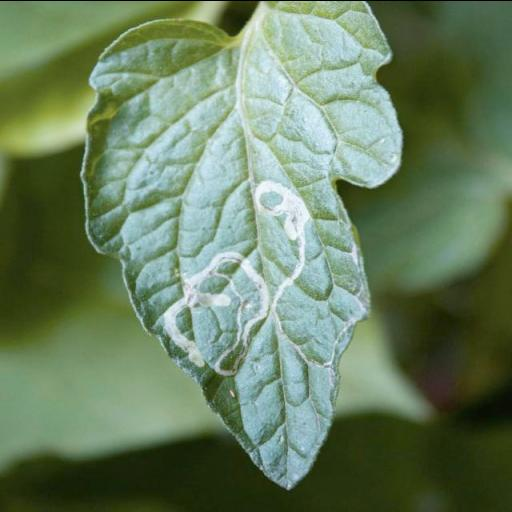Leaf Miner: (80, 0, 405, 489)
